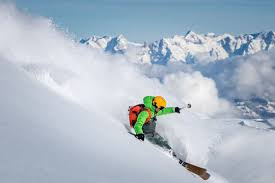skis: (165, 148, 211, 182)
